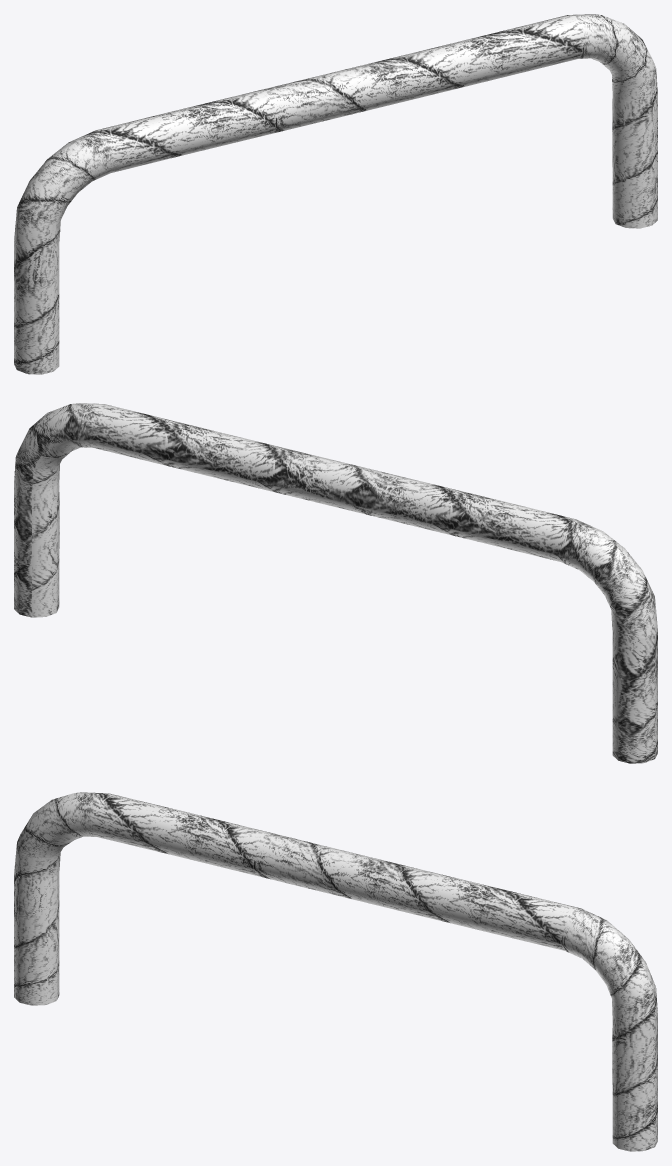
File: Rope1x2.fbx
The picture shows the model from 3 angles, top to bottom: view 1: azimuth 30°, elevation 25°; view 2: azimuth 150°, elevation 25°; view 3: azimuth 330°, elevation 25°; orthographic projection.
Visible parts, largest first — view 1: Rope_cut_Path, Rope; view 2: Rope_cut_Path, Rope; view 3: Rope_cut_Path, Rope.
Part boxes in pixels (x1,y1,x2,y2): Rope_cut_Path: [14, 14, 657, 249]; Rope: [14, 92, 657, 374]; Rope_cut_Path: [14, 403, 657, 638]; Rope: [14, 481, 657, 763]; Rope_cut_Path: [14, 792, 657, 1024]; Rope: [14, 871, 657, 1151].
Bounding box in the file's own units: 0.9682 × 0.3163 × 0.0576.
1 material, 1 textured.
